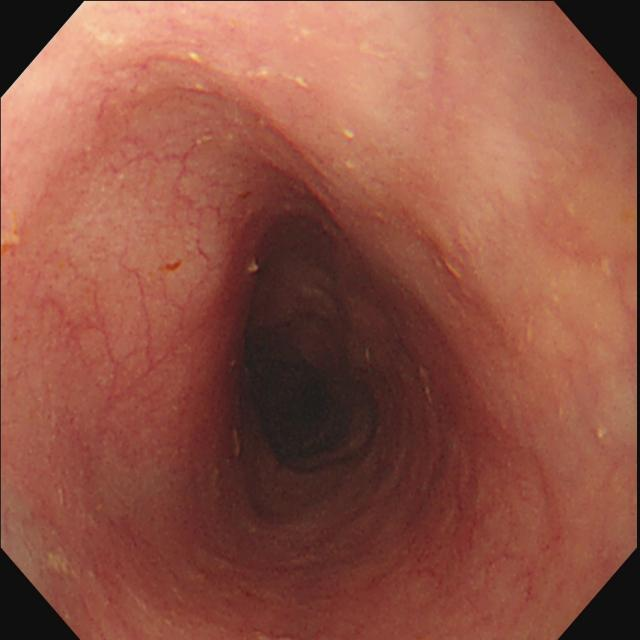E: (225, 328, 377, 470)
J: (44, 545, 80, 580), (247, 258, 261, 277)
